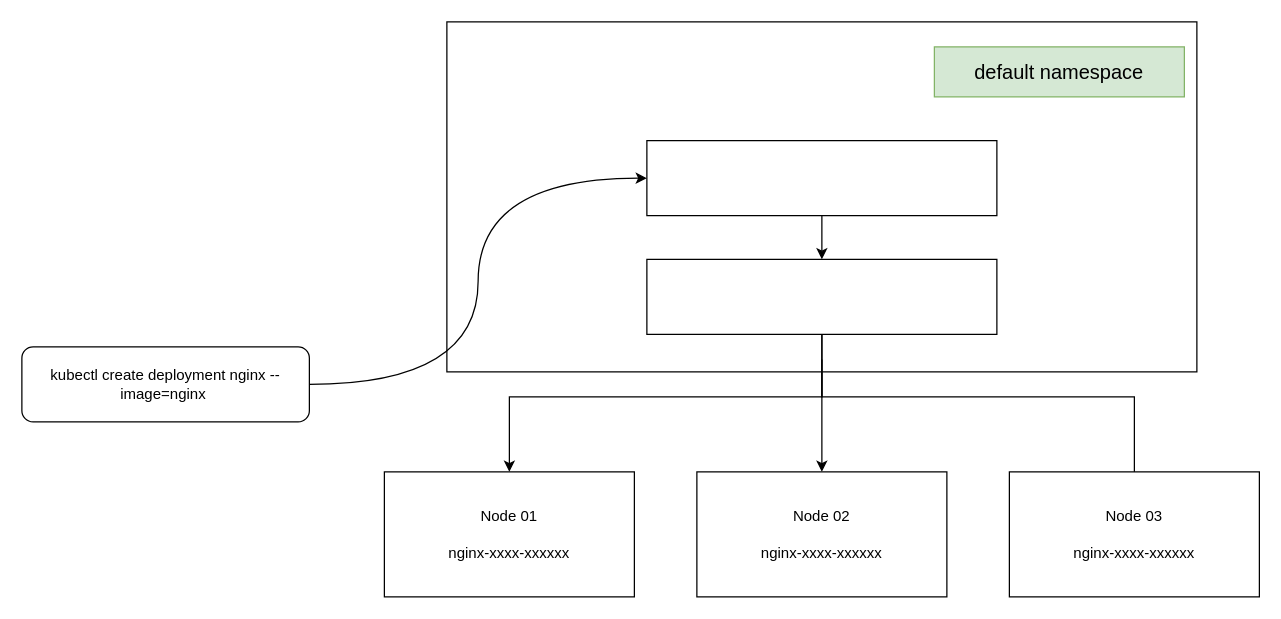
This 1281x619 diagram has some shape labels left out. Each missing label, with the centre of its shape:
Deployment nginx: point 821,177
RS nginx-xxxx: point 821,296
